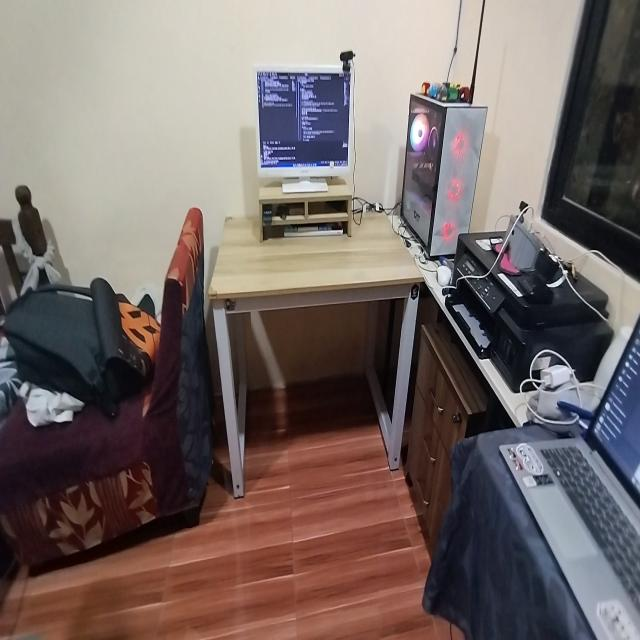table: (205, 199, 424, 490)
